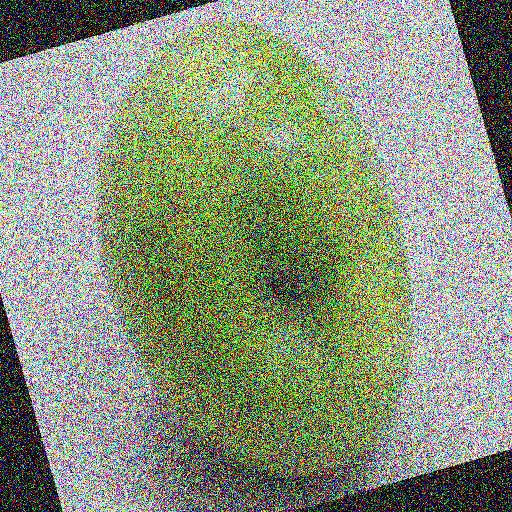fruit: (38, 187, 266, 512)
